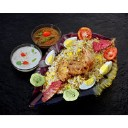briyani: (47, 44, 103, 88)
